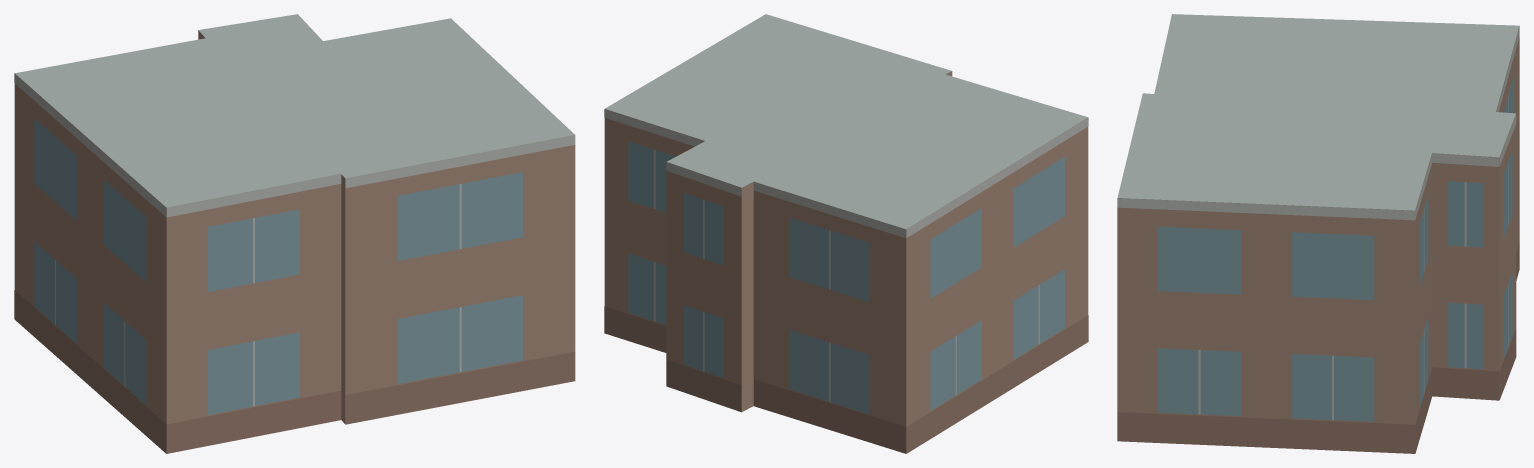
Rendered from survey-upis-32777458.glb.
3 views of the same model, side by side, from view 1: azimuth 30°, elevation 25°; view 2: azimuth 150°, elevation 25°; view 3: azimuth 270°, elevation 25° (orthographic). The views are drawn at different scales.
Visible parts, largest first — view 1: survey-upis-32777458.tmp; view 2: survey-upis-32777458.tmp; view 3: survey-upis-32777458.tmp.
Part boxes in pixels (bbox=[...]): survey-upis-32777458.tmp: bbox=[14, 14, 575, 453]; survey-upis-32777458.tmp: bbox=[604, 14, 1088, 453]; survey-upis-32777458.tmp: bbox=[1117, 14, 1519, 453].
Size of the model in its own units: 10.58 by 6.1 by 9.15.
